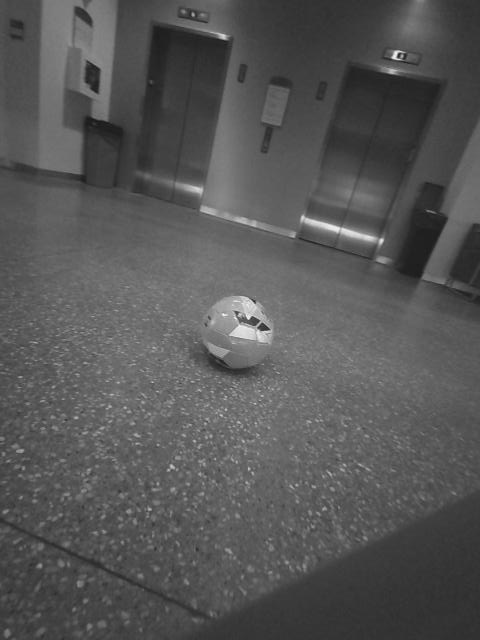ball: (194, 292, 278, 373)
